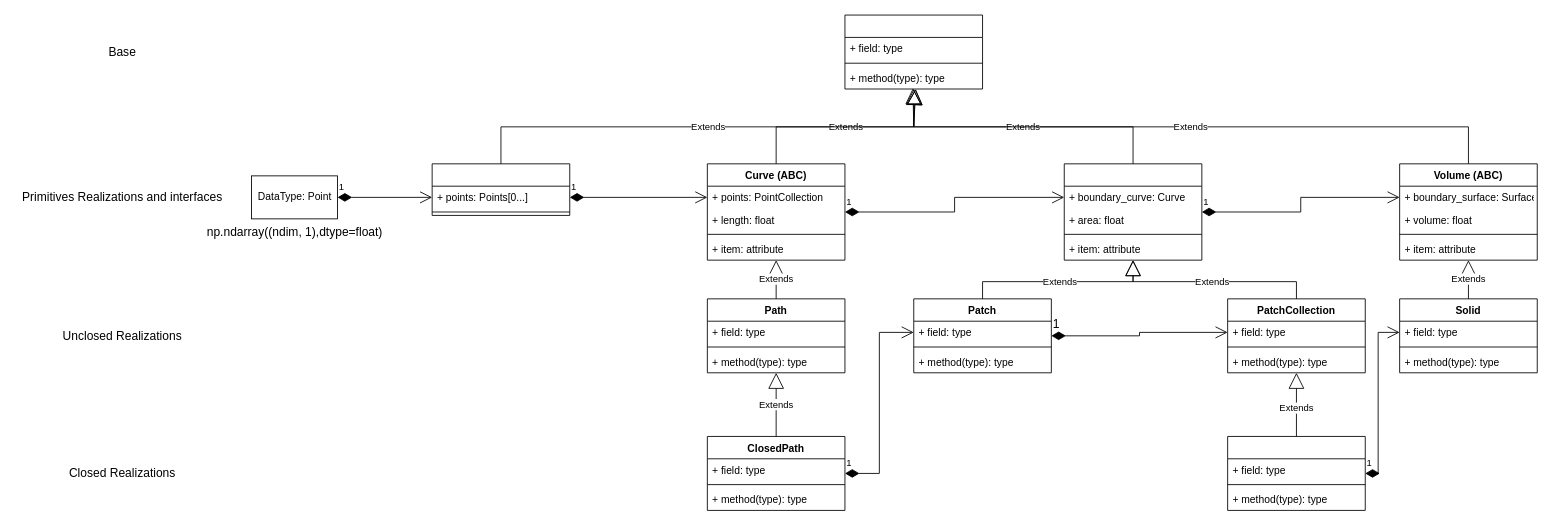
Image size: 1552x528. Some labels were removed from this diagram. Each missing label, with the box of its shape:
BaseGeometry: (844, 14, 983, 89)
ClosedPatchCollection: (1227, 436, 1365, 510)
PointCollection: (431, 163, 570, 215)
Surface (ABC): (1063, 163, 1202, 260)
